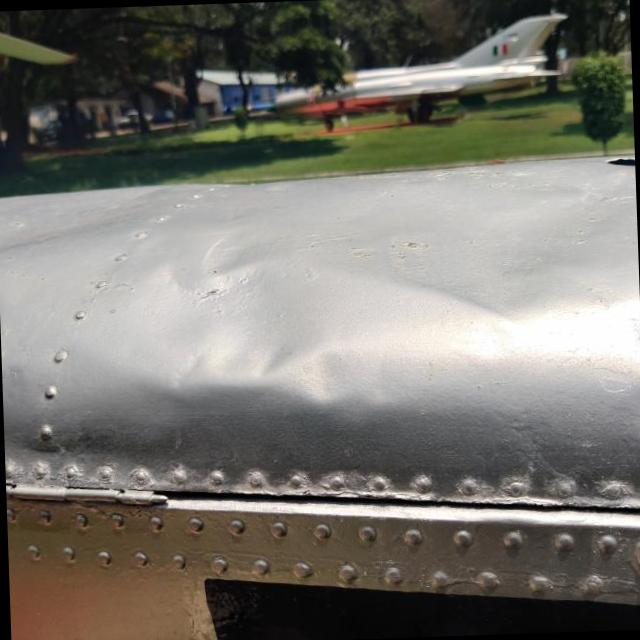Dent: (90, 205, 351, 442)
